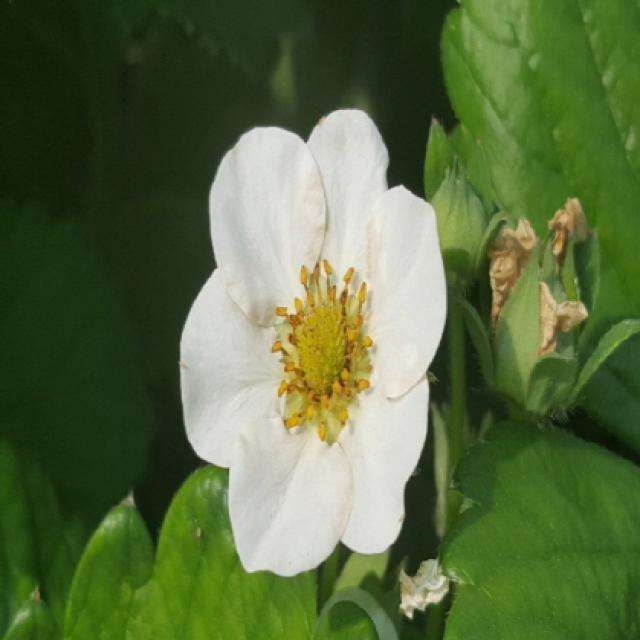Blossom Blight: (260, 256, 376, 445)
